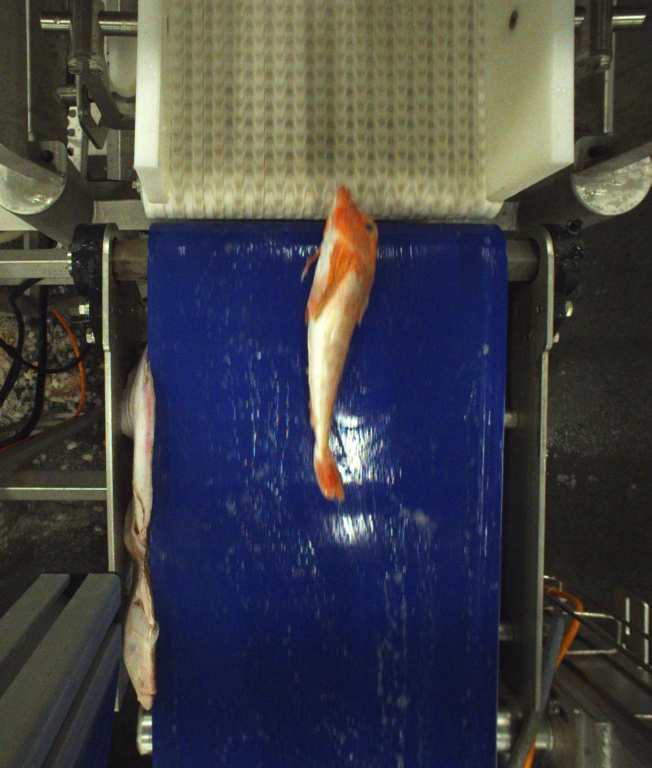GUU: (303, 186, 382, 501)
